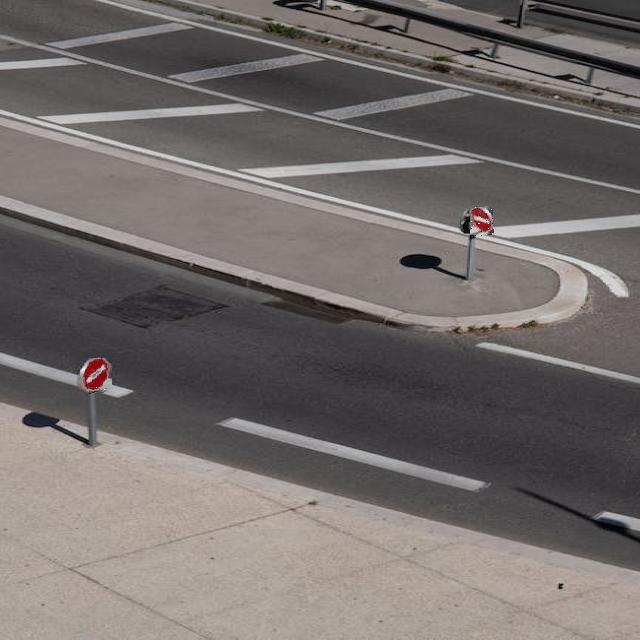no entry: (78, 358, 112, 394), (470, 207, 494, 236)
